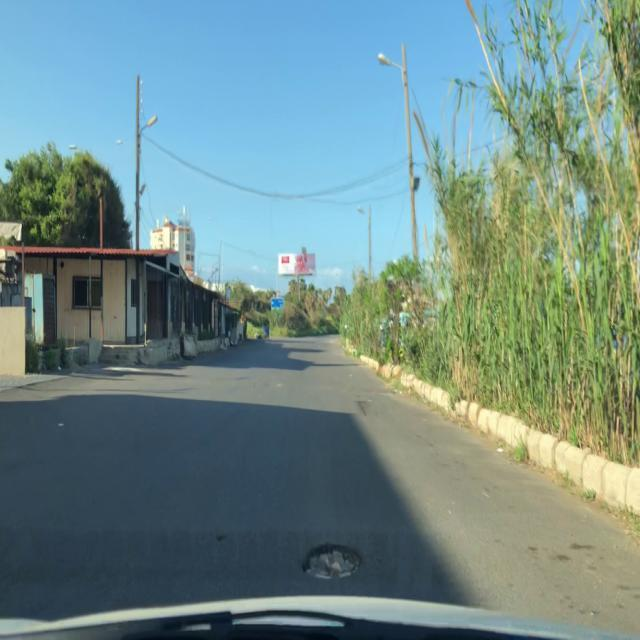Buraco: (298, 542, 366, 582)
